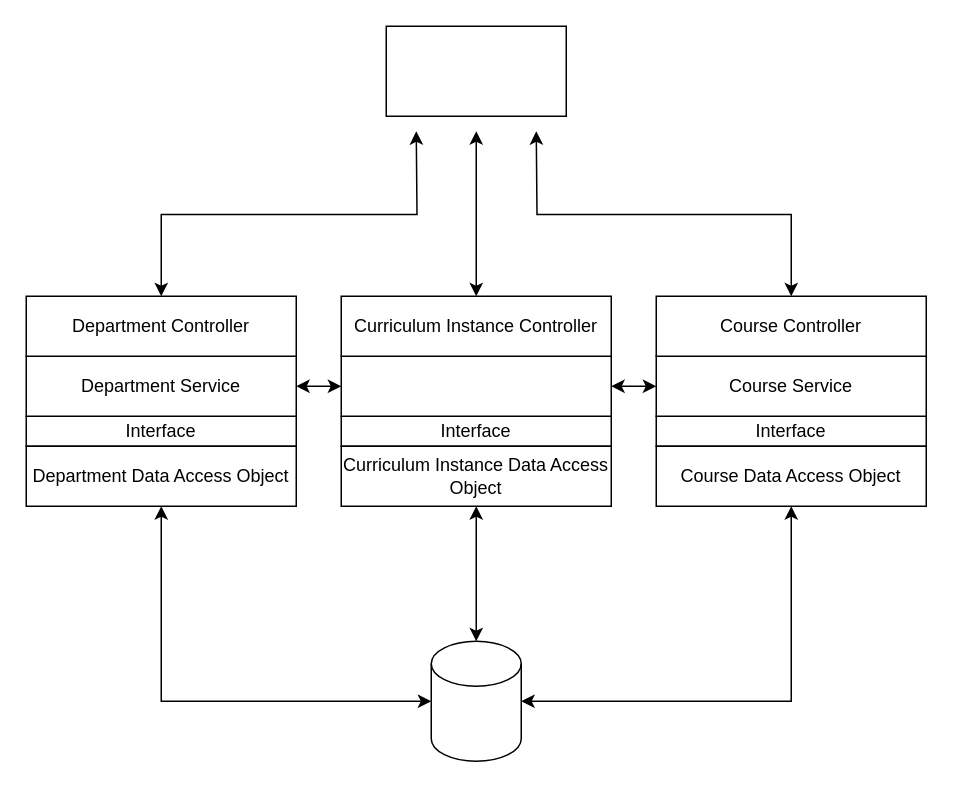
The diagram is 953 pixels wide and 788 high, and some of its shapes have lost their labels. The shapes that lost their labels are listed below. From the top down, each one's centre as x and y in pixels, then its label:
At (x=475, y=70): "Service Consumer".
At (x=475, y=385): "Curriculum Instance Service".
At (x=475, y=700): "Database source".
